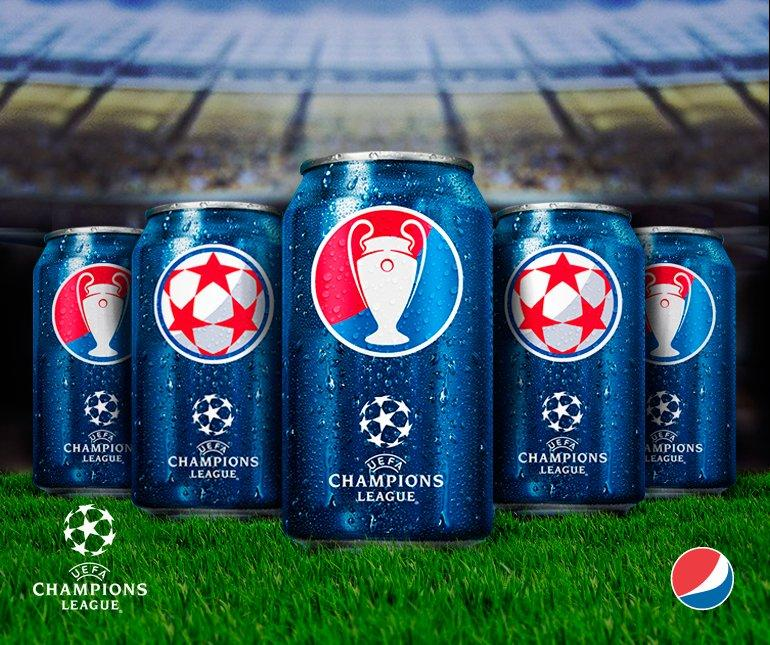pepsi: (671, 543, 734, 610)
